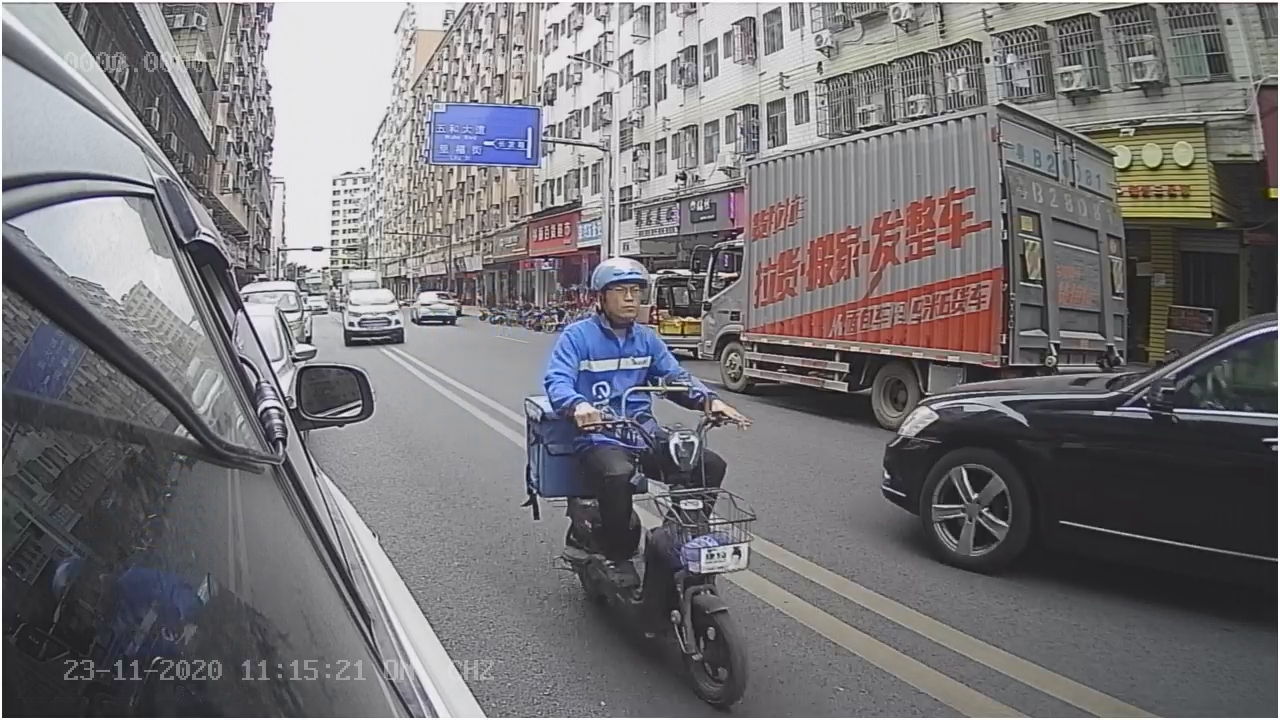person: (525, 244, 723, 388)
